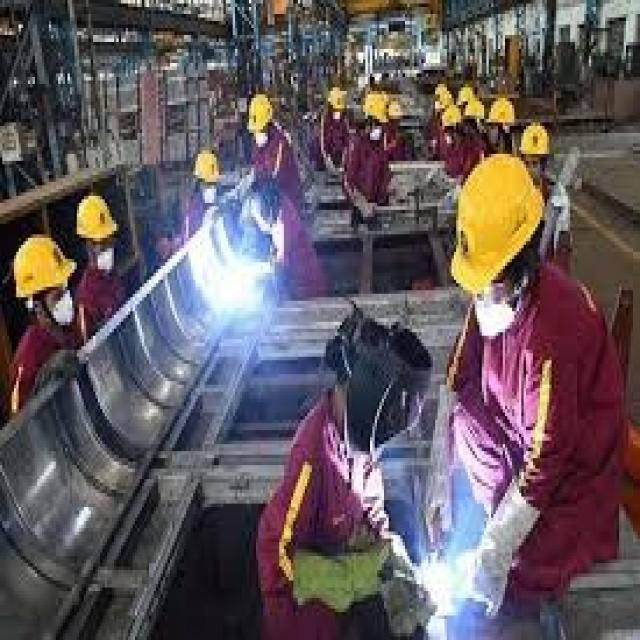Reflective-Jacket: (440, 273, 638, 598), (255, 396, 400, 636), (245, 126, 302, 206), (342, 133, 396, 210)
Safety-Helmet: (435, 150, 554, 308), (10, 231, 74, 304), (70, 189, 121, 248), (516, 116, 558, 172), (186, 140, 226, 196), (242, 87, 277, 140), (484, 91, 519, 136), (321, 80, 352, 122), (358, 92, 386, 128), (440, 102, 465, 136), (460, 91, 482, 124), (386, 98, 405, 126), (460, 82, 479, 104)
